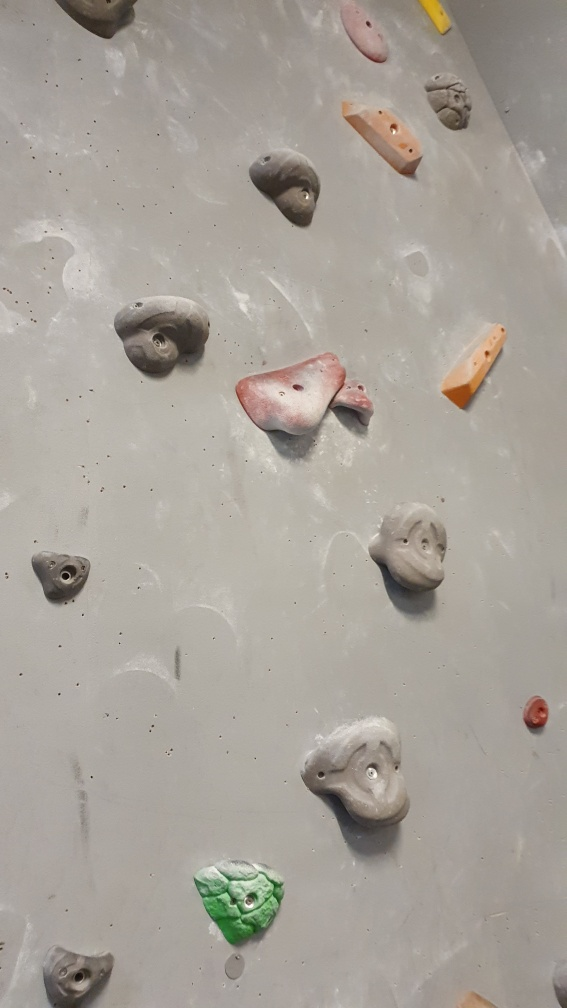Crimp: (27, 540, 96, 614)
Hand Start: (218, 946, 258, 988)
Jug: (301, 709, 412, 835), (362, 496, 452, 597), (112, 292, 213, 377), (246, 147, 326, 226)
Pinch: (339, 92, 428, 178), (433, 318, 514, 412)
